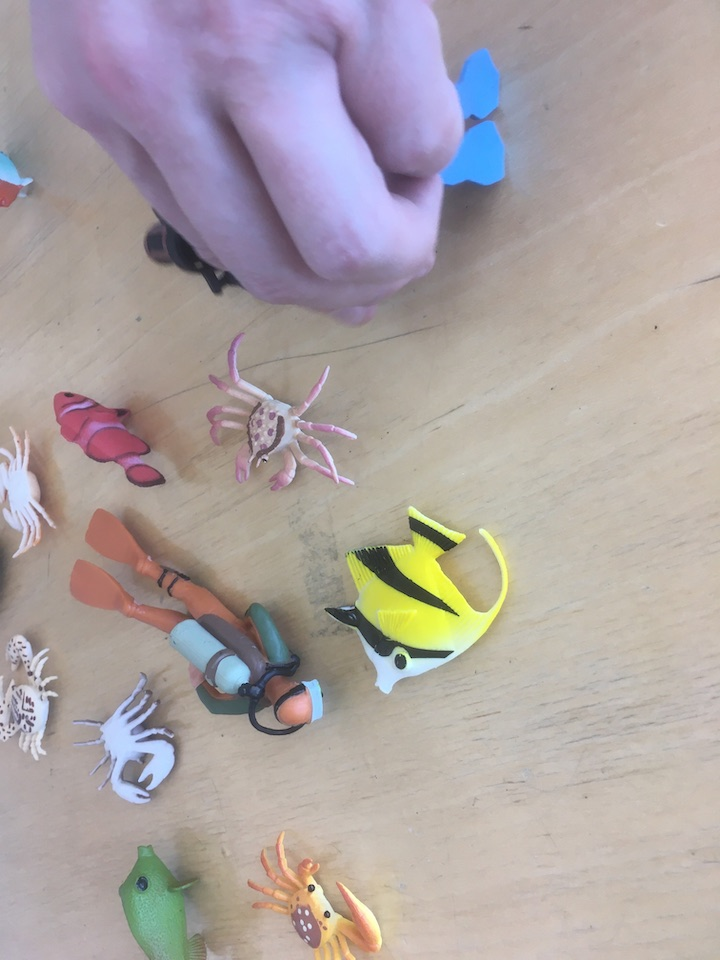crab: (197, 329, 364, 500), (240, 831, 386, 960), (70, 669, 184, 807), (1, 629, 67, 765), (1, 423, 64, 563)
danger: (318, 501, 514, 707)
diver: (137, 52, 522, 305), (66, 498, 330, 739)
fish: (116, 842, 237, 960), (46, 383, 171, 488)
